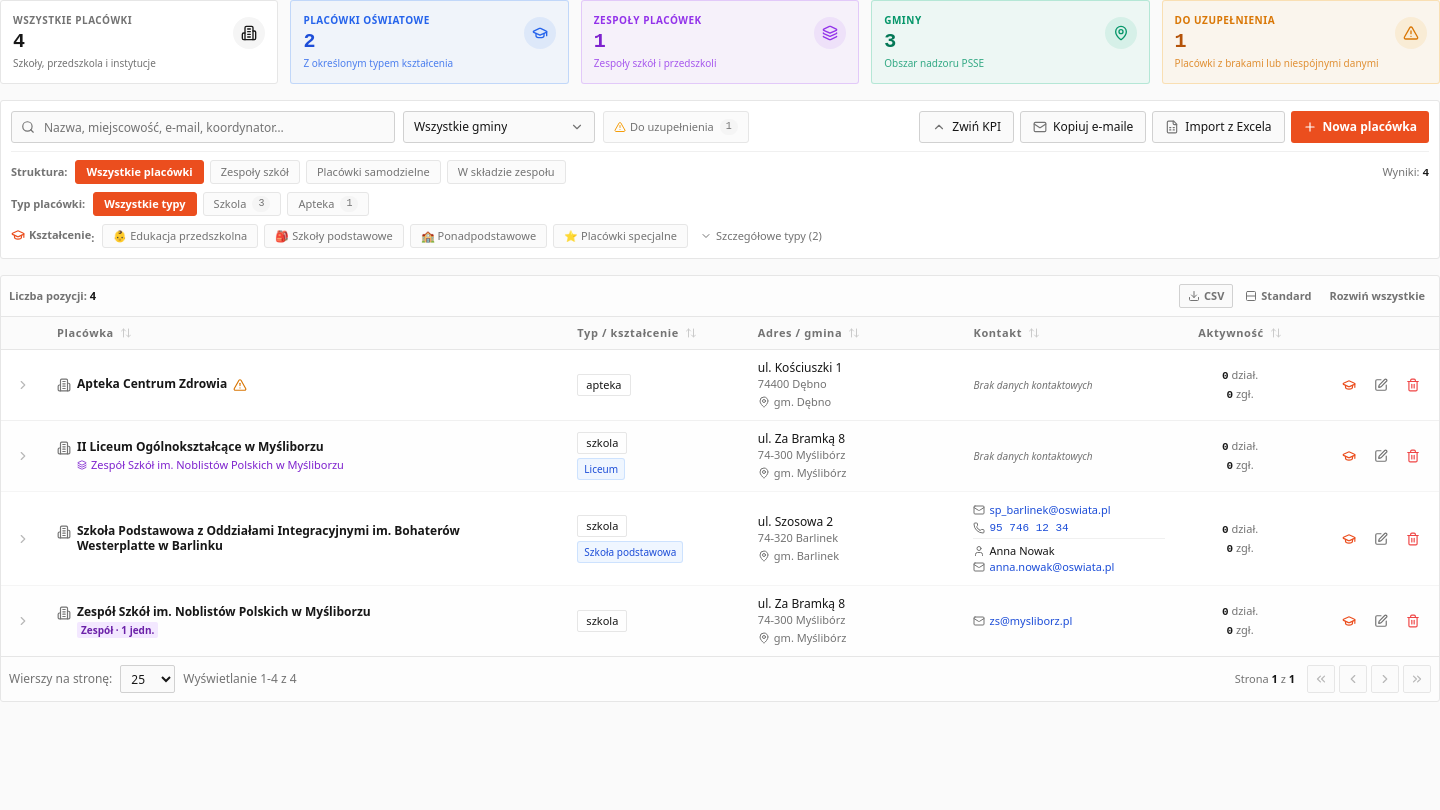
FacilitiesSection › shows only facilities needing attention
Click the button "Do uzupełnienia 1" at coordinates (676, 127), box [603, 111, 749, 143]
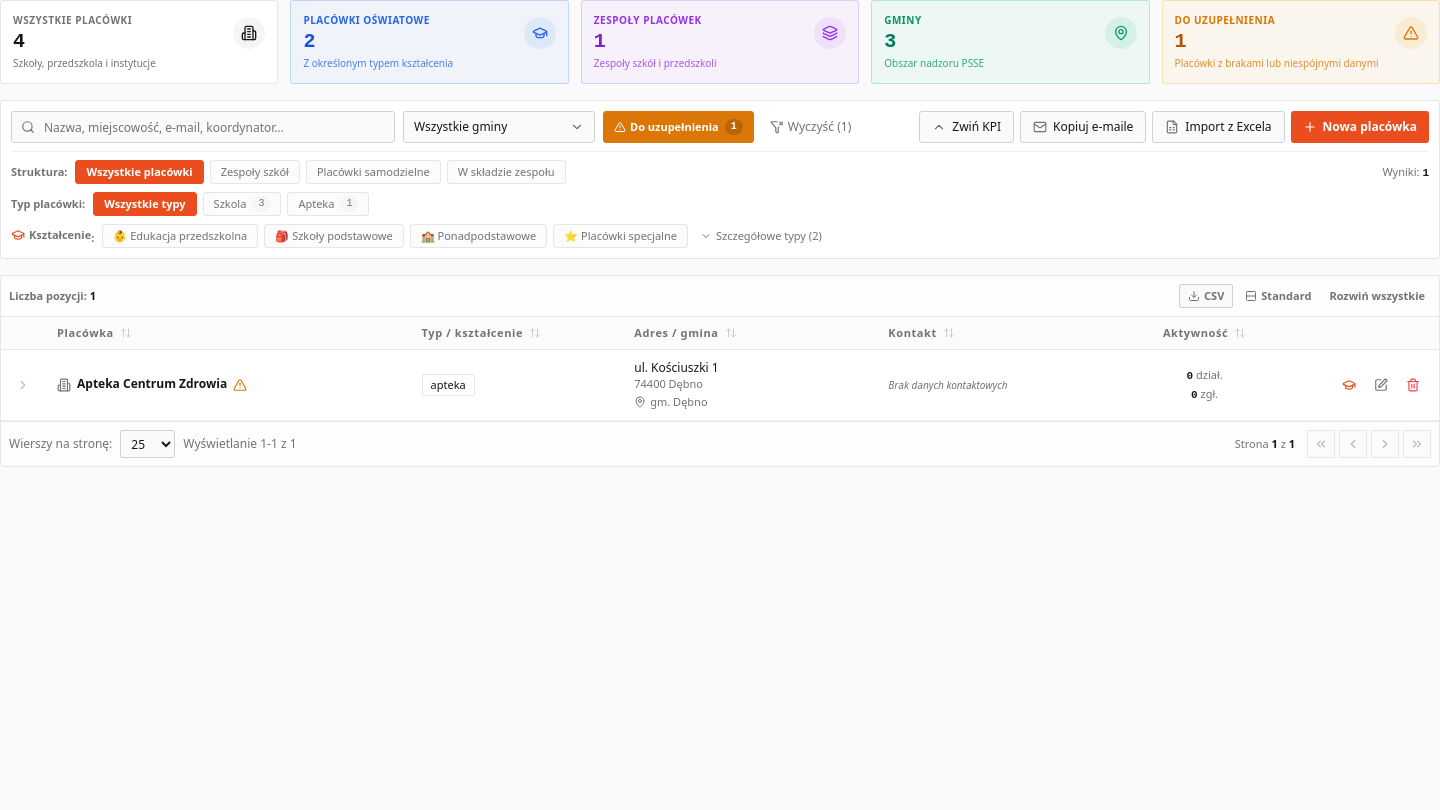
Expected: the text "Apteka Centrum Zdrowia" is shown, [77, 376, 227, 391]
Expected: the text "Szkoła Podstawowa z Oddziałami Integracyjnymi im. Bohaterów Westerplatte w Barlinku" is gone
Expected: the text "II Liceum Ogólnokształcące w Myśliborzu" is gone
